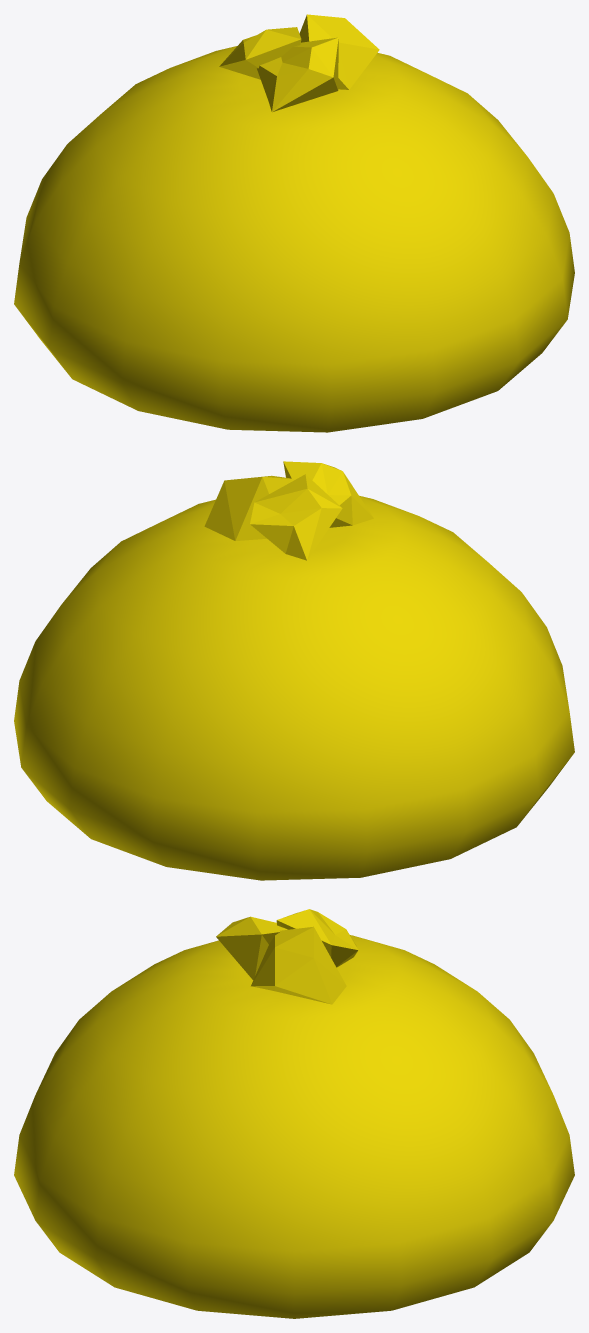
File: Envi_Cactus_Round_02_v01.fbx
The picture shows the model from 3 angles, top to bottom: view 1: azimuth 30°, elevation 25°; view 2: azimuth 150°, elevation 25°; view 3: azimuth 270°, elevation 25°; orthographic projection.
Parts seen in each view (by area): view 1: Truck_Ex_Set03_Cactus_Round_01, Truck_Ex_Set03_Rock_Small_2, Truck_Ex_Set03_Rock_Small_1, Truck_Ex_Set03_Rock_Small_3; view 2: Truck_Ex_Set03_Cactus_Round_01, Truck_Ex_Set03_Rock_Small_3, Truck_Ex_Set03_Rock_Small_1, Truck_Ex_Set03_Rock_Small_2; view 3: Truck_Ex_Set03_Cactus_Round_01, Truck_Ex_Set03_Rock_Small_1, Truck_Ex_Set03_Rock_Small_2, Truck_Ex_Set03_Rock_Small_3.
Boxes of the visible parts, x1=… form: Truck_Ex_Set03_Cactus_Round_01: x1=14, y1=46, x2=574, y2=432; Truck_Ex_Set03_Rock_Small_2: x1=257, y1=37, x2=338, y2=112; Truck_Ex_Set03_Rock_Small_1: x1=299, y1=14, x2=379, y2=89; Truck_Ex_Set03_Rock_Small_3: x1=219, y1=27, x2=301, y2=79; Truck_Ex_Set03_Cactus_Round_01: x1=14, y1=495, x2=574, y2=880; Truck_Ex_Set03_Rock_Small_3: x1=250, y1=474, x2=342, y2=560; Truck_Ex_Set03_Rock_Small_1: x1=204, y1=475, x2=294, y2=541; Truck_Ex_Set03_Rock_Small_2: x1=283, y1=461, x2=373, y2=527; Truck_Ex_Set03_Cactus_Round_01: x1=14, y1=935, x2=574, y2=1318; Truck_Ex_Set03_Rock_Small_1: x1=251, y1=926, x2=346, y2=1004; Truck_Ex_Set03_Rock_Small_2: x1=216, y1=916, x2=287, y2=979; Truck_Ex_Set03_Rock_Small_3: x1=276, y1=909, x2=358, y2=967.
Size of the model in its own units: 14 by 8.14 by 14.
